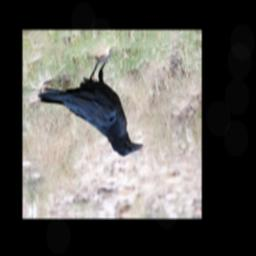Crow: (36, 48, 145, 158)
